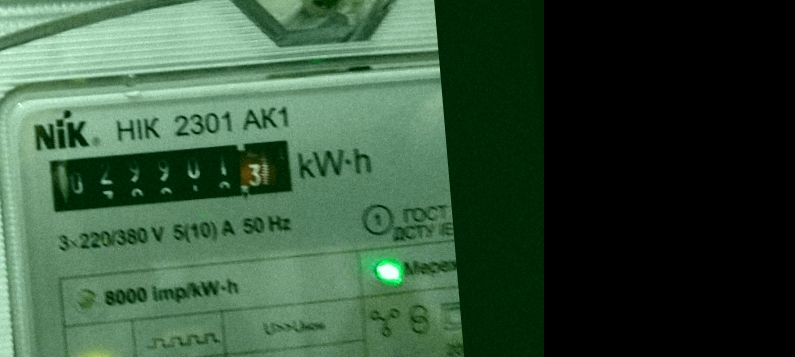0: (65, 167, 86, 195), (184, 151, 202, 181)
1: (214, 148, 230, 177)
2: (95, 158, 115, 187)
3: (244, 160, 264, 187)
9: (125, 156, 143, 184), (156, 155, 171, 183)
screen: (39, 129, 304, 222)
